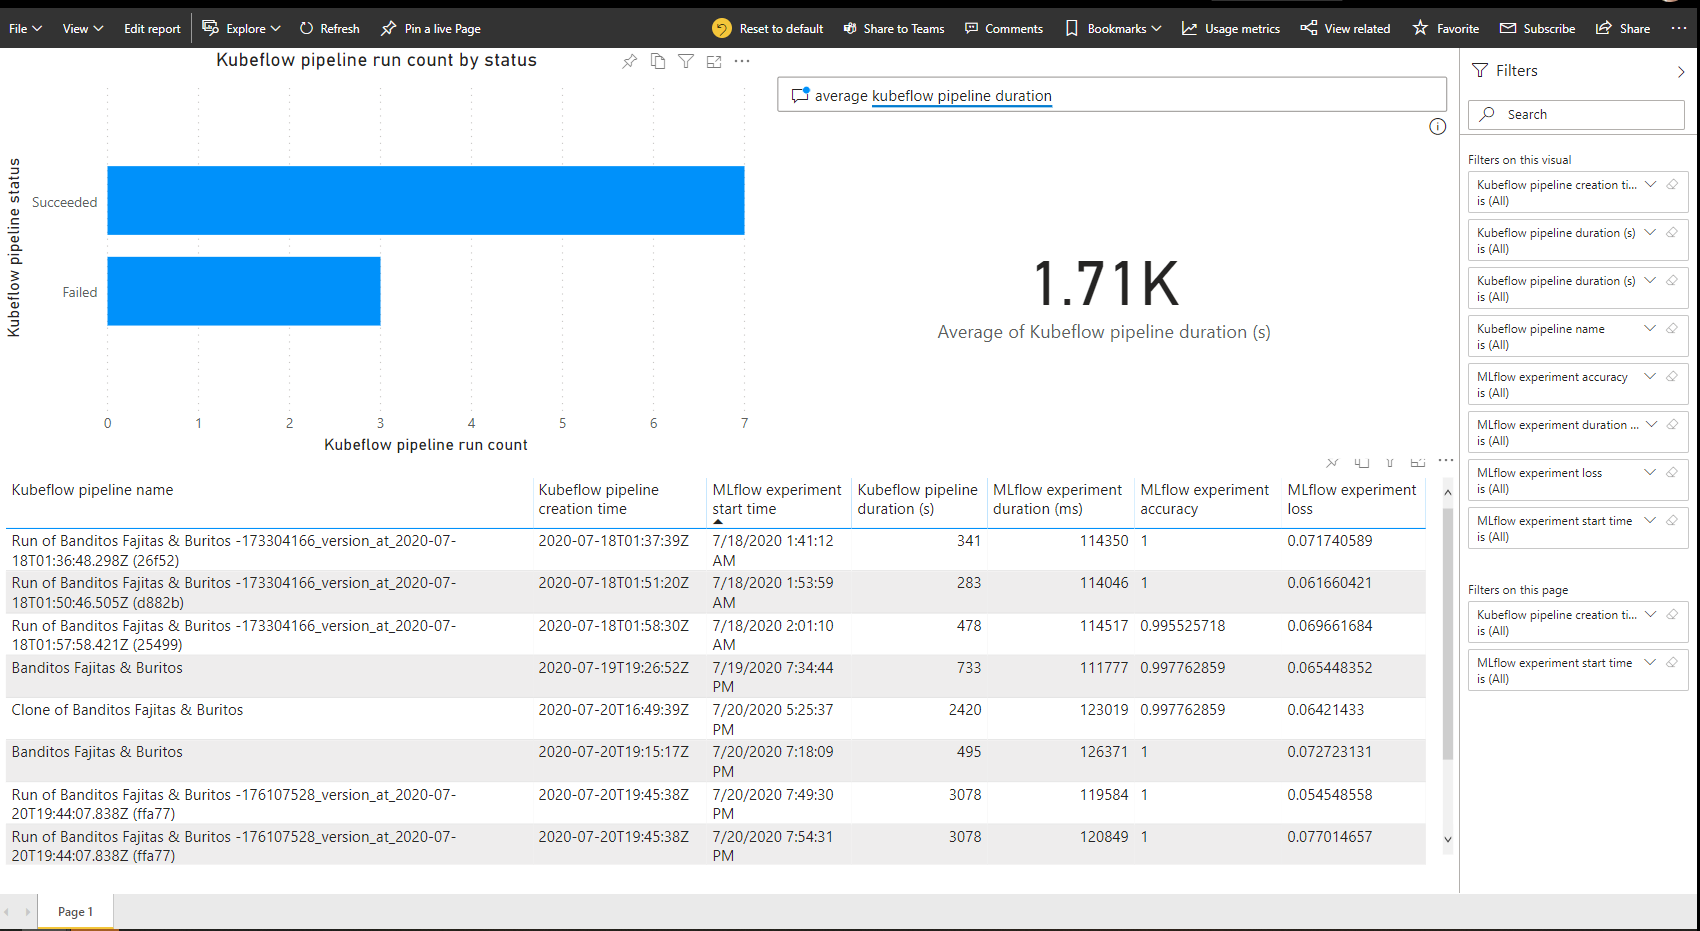

The page's visual inventory and layout, read from the dashboard file:
{"tool":"powerbi","page":{"name":"Page 1","canvas":[1280,720],"ordinal":0},"visuals":[{"type":"barChart","title":"Kubeflow pipeline run count by status","fields":{"Category":["KFP_MLF Runs.kfp.status"],"Y":["CountNonNull(KFP_MLF Runs.kfp.status)"]},"box":[0,0,663.4,360],"z":0},{"type":"tableEx","fields":{"Values":["KFP_MLF Runs.Kubeflow pipeline name","KFP_MLF Runs.Kubeflow pipeline URL","KFP_MLF Runs.MLflow experiment URL","KFP_MLF Runs.kfp.created_at","KFP_MLF Runs.MLflow experiment start time","KFP_MLF Runs.Kubeflow pipeline duration (s)","KFP_MLF Runs.MLflow experiment duration (ms)","KFP_MLF Runs.get.accuracy","KFP_MLF Runs.get.loss"]},"box":[1.1,371.3,1278.9,349],"z":1000},{"type":"textbox","box":[673,0,607,360],"z":2000},{"type":"qnaVisual","box":[673.3,0,605.3,348.7],"z":3000}]}

Visuals, with their boxes in screenshot pixels (x1, y1, x2, y2):
"Kubeflow pipeline run count by status" barChart: box=[120, 40, 934, 482]
tableEx - KFP_MLF Runs.Kubeflow pipeline name x KFP_MLF Runs.Kubeflow pipeline URL: box=[121, 496, 1692, 925]
textbox: box=[946, 40, 1692, 482]
qnaVisual: box=[947, 40, 1690, 468]
